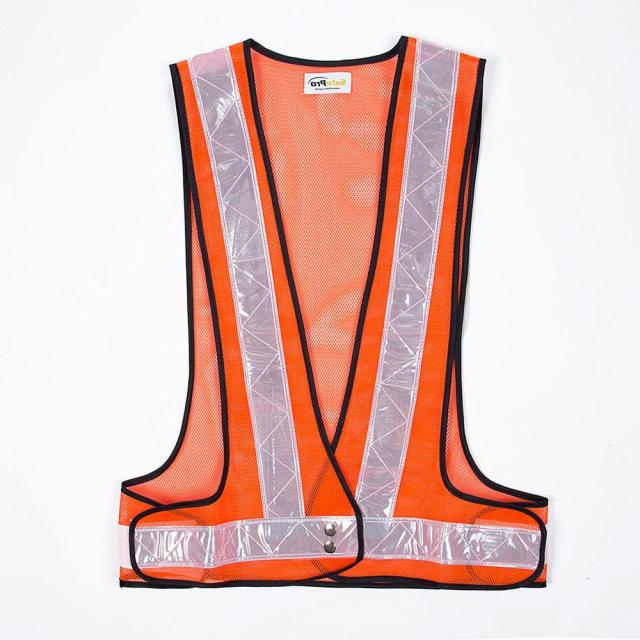Reflective-Jacket: (27, 17, 592, 600)
